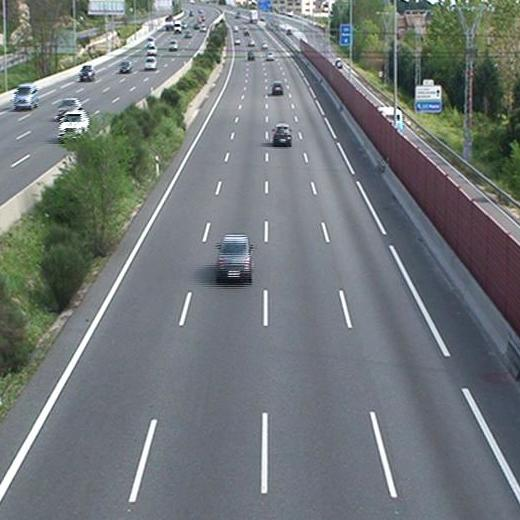car: (213, 232, 255, 284), (270, 123, 293, 148), (270, 80, 284, 95)
